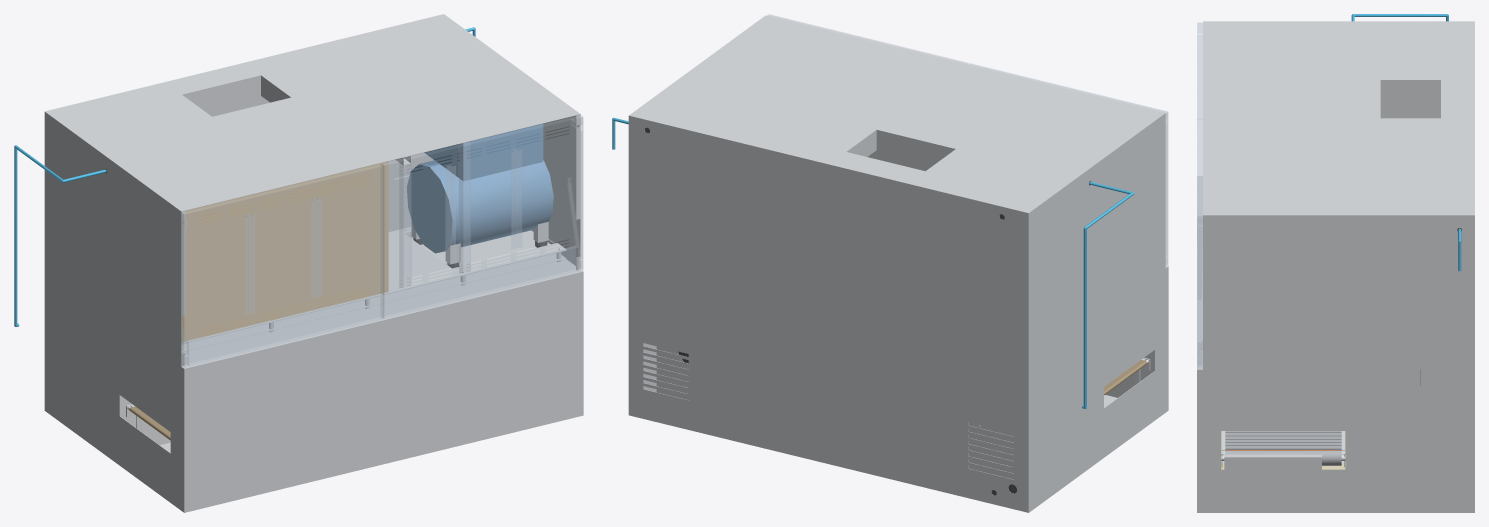
Rendered from modul_D.glb.
The picture shows the model from 3 angles, left to right: view 1: azimuth 30°, elevation 25°; view 2: azimuth 150°, elevation 25°; view 3: azimuth 270°, elevation 25°; orthographic projection.
Parts seen in each view (by area): view 1: F_UST_KABIN__sac, F_TP10_GOVDE__sac, F_UST_KAPAK__on_seffaf__KAPAK_F_SOL, F_UST_KAPAK__on_seffaf__KAPAK_F_SAG, D_PIZZA_YEDEK_UST, HAVA_KOMPRESOR__kompresor, F_UST_RAF__sac, F_DAVLUMBAZ__sac, F_UST_KABIN__on_seffaf, F_KOMP_AYAK__paslanmaz, HAVA_KOMPRESOR__hava_ana, F_KOMP_AYAK__celik; view 2: F_UST_KABIN__sac, F_TP10_GOVDE__sac, F_DAVLUMBAZ__sac, HAVA_KOMPRESOR__hava_ana, F_UST_KAPAK__on_seffaf__KAPAK_F_SOL; view 3: F_UST_KABIN__sac, F_TP10_GOVDE__sac, F_DAVLUMBAZ__sac, F_TP10_KONVEYOR__tel_bant, F_CIKIS_PLAKA__sac, F_UST_KAPAK__on_seffaf__KAPAK_F_SAG, F_TP10_KONVEYOR__tel_bant__RULO_TP_CIKIS, F_UST_KAPAK__on_seffaf__KAPAK_F_SOL, HAVA_KOMPRESOR__hava_ana, F_TP10_GOVDE__yalitim.
Boxes of the visible parts, <box> form: F_UST_KABIN__sac: <box>44,14,580,430</box>; F_TP10_GOVDE__sac: <box>72,259,583,512</box>; F_UST_KAPAK__on_seffaf__KAPAK_F_SOL: <box>181,164,383,367</box>; F_UST_KAPAK__on_seffaf__KAPAK_F_SAG: <box>381,115,583,318</box>; D_PIZZA_YEDEK_UST: <box>181,161,388,342</box>; HAVA_KOMPRESOR__kompresor: <box>407,123,553,253</box>; F_UST_RAF__sac: <box>181,227,566,352</box>; F_DAVLUMBAZ__sac: <box>183,76,433,231</box>; F_UST_KABIN__on_seffaf: <box>183,141,571,352</box>; F_KOMP_AYAK__paslanmaz: <box>406,229,554,266</box>; HAVA_KOMPRESOR__hava_ana: <box>14,27,475,326</box>; F_KOMP_AYAK__celik: <box>411,220,548,264</box>; F_UST_KABIN__sac: <box>628,15,1165,512</box>; F_TP10_GOVDE__sac: <box>656,265,1168,492</box>; F_DAVLUMBAZ__sac: <box>847,130,954,171</box>; HAVA_KOMPRESOR__hava_ana: <box>612,117,1134,408</box>; F_UST_KAPAK__on_seffaf__KAPAK_F_SOL: <box>967,63,1168,266</box>; F_UST_KABIN__sac: <box>1203,21,1474,512</box>; F_TP10_GOVDE__sac: <box>1197,176,1420,512</box>; F_DAVLUMBAZ__sac: <box>1380,80,1440,118</box>; F_TP10_KONVEYOR__tel_bant: <box>1225,431,1341,450</box>; F_CIKIS_PLAKA__sac: <box>1224,454,1321,469</box>; F_UST_KAPAK__on_seffaf__KAPAK_F_SAG: <box>1197,119,1202,368</box>; F_TP10_KONVEYOR__tel_bant__RULO_TP_CIKIS: <box>1225,451,1341,465</box>; F_UST_KAPAK__on_seffaf__KAPAK_F_SOL: <box>1197,22,1202,119</box>; HAVA_KOMPRESOR__hava_ana: <box>1351,14,1461,271</box>; F_TP10_GOVDE__yalitim: <box>1220,430,1345,469</box>.
Size of the model in its own units: 1.75 by 1.07 by 0.909.
